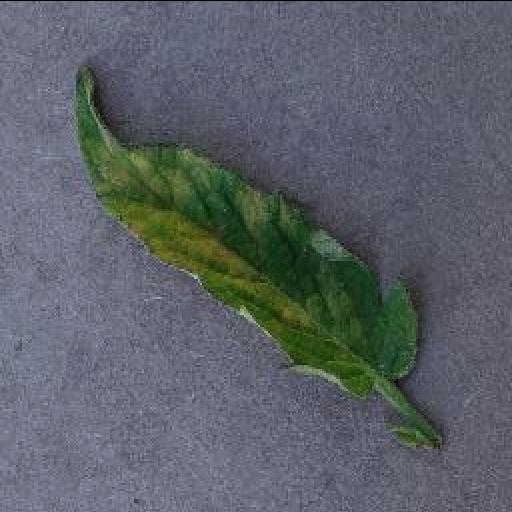disease_tomato: (73, 68, 419, 398)
